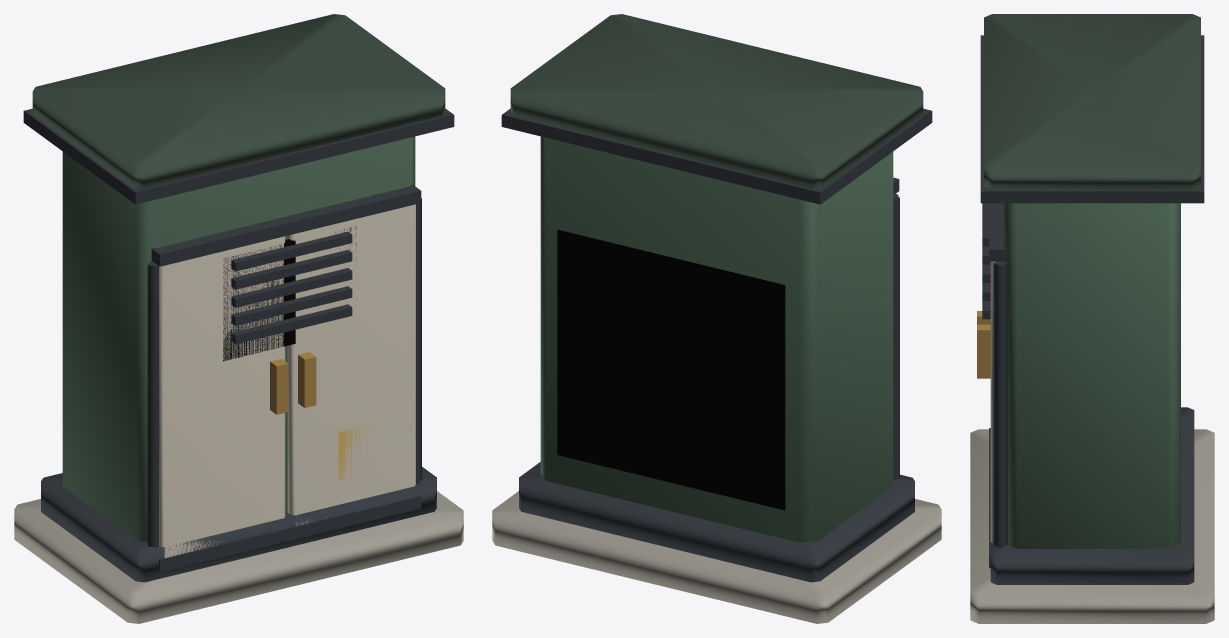
Rendered from utility-cabinet.glb.
3 views of the same model, side by side, from view 1: azimuth 30°, elevation 25°; view 2: azimuth 150°, elevation 25°; view 3: azimuth 270°, elevation 25° (orthographic).
Parts seen in each view (by area): view 1: Merged_prop-body-light, Merged_prop-accent, Merged_prop-body, Merged_city-metal-dark, Merged_city-curb, Merged_prop-body-deep, Merged_city-brass, Merged_city-warning; view 2: Merged_prop-body, Merged_prop-body-deep-surface, Merged_prop-accent, Merged_city-metal-dark, Merged_city-curb; view 3: Merged_prop-body, Merged_prop-accent, Merged_city-metal-dark, Merged_city-curb, Merged_prop-body-light, Merged_city-brass.
Boxes of the visible parts, box(x1,y1,x2,y2) form: Merged_prop-body-light: box(159, 204, 415, 557); Merged_prop-accent: box(32, 14, 445, 188); Merged_prop-body: box(62, 136, 415, 541); Merged_city-metal-dark: box(23, 108, 454, 582); Merged_city-curb: box(14, 491, 463, 623); Merged_prop-body-deep: box(223, 226, 356, 361); Merged_city-brass: box(270, 352, 316, 414); Merged_city-warning: box(338, 426, 374, 480); Merged_prop-body: box(540, 136, 893, 542); Merged_prop-body-deep-surface: box(557, 229, 785, 510); Merged_prop-accent: box(510, 14, 923, 188); Merged_city-metal-dark: box(501, 108, 932, 582); Merged_city-curb: box(492, 491, 941, 623); Merged_prop-body: box(1004, 203, 1180, 548); Merged_prop-accent: box(984, 14, 1200, 189); Merged_city-metal-dark: box(980, 35, 1204, 584); Merged_city-curb: box(970, 429, 1214, 623); Merged_prop-body-light: box(990, 261, 995, 542); Merged_city-brass: box(977, 311, 990, 378).
Size of what is drawn, in the model's own units: 1.16 by 1.49 by 0.728.
